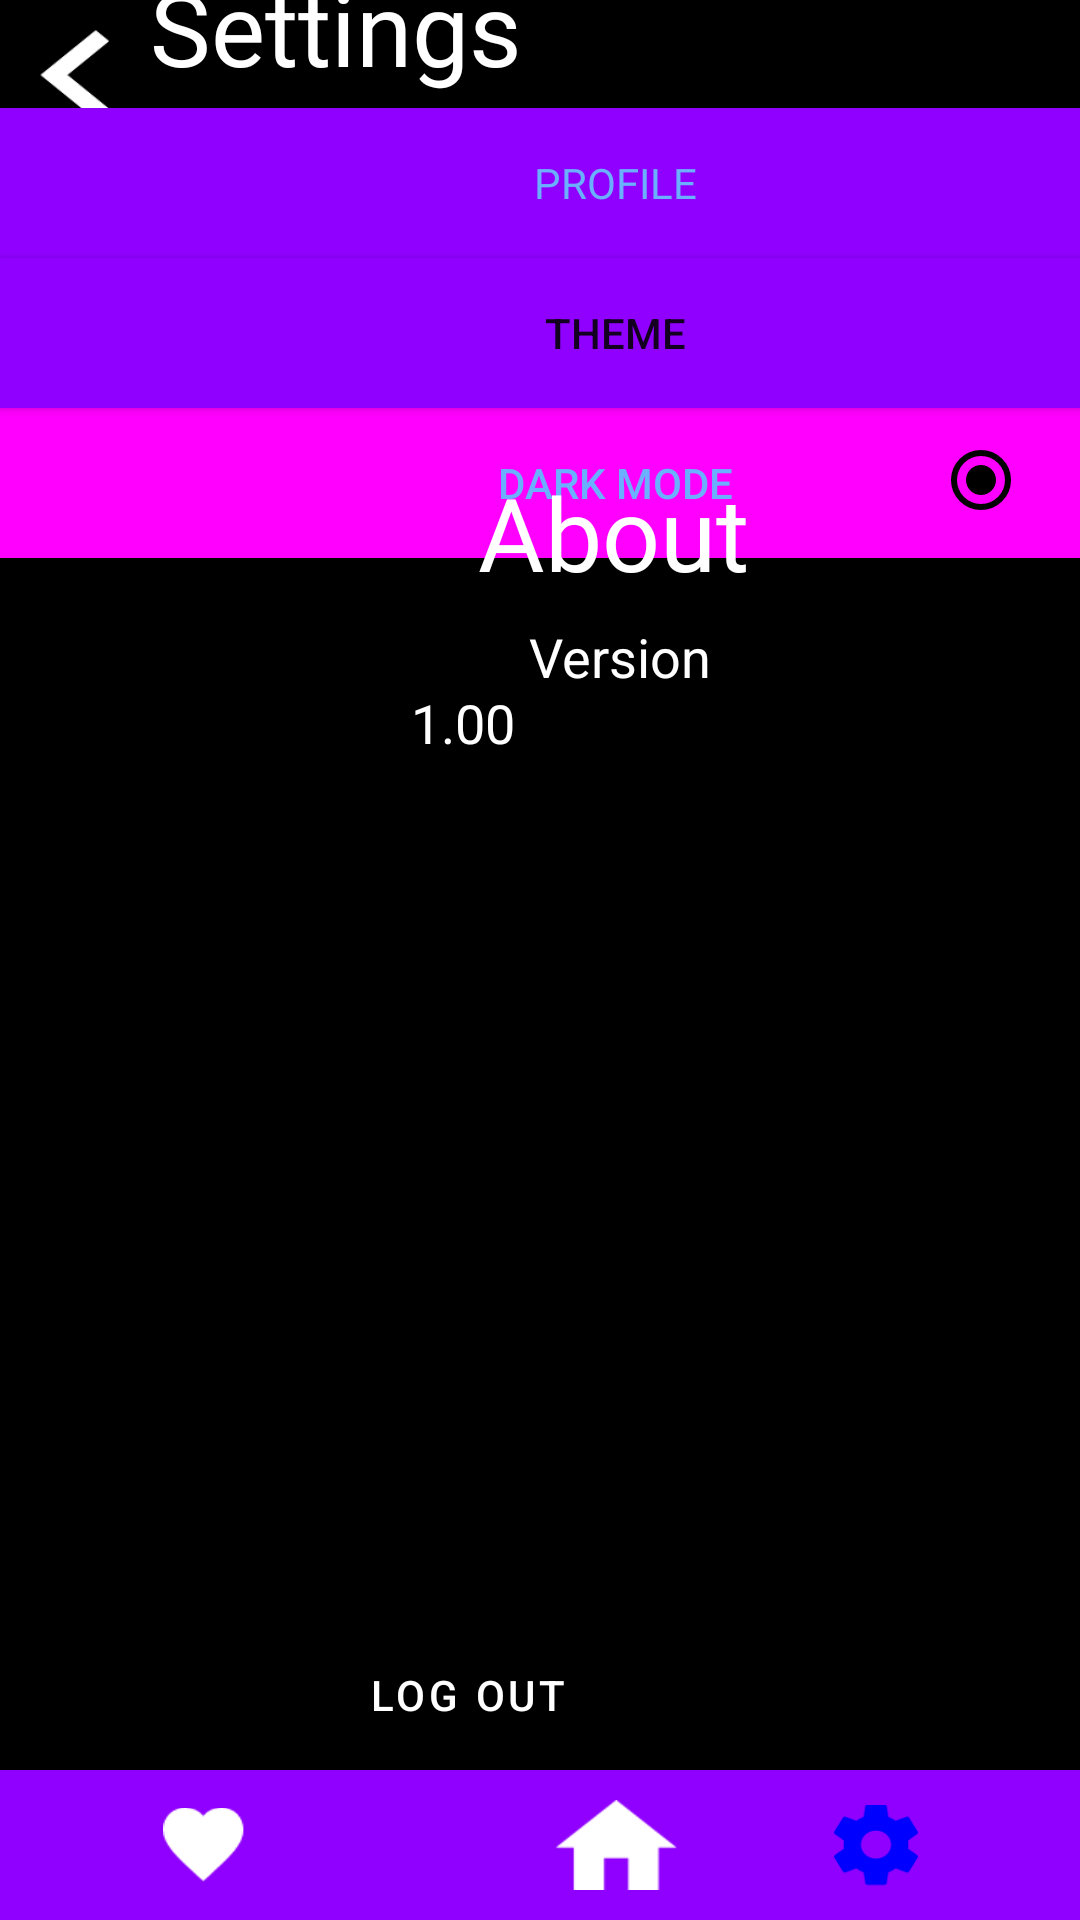

Where to tap for icons on this 1080×1920 app screen, as (x,y):
back: (75,54)
home: (616,1845)
